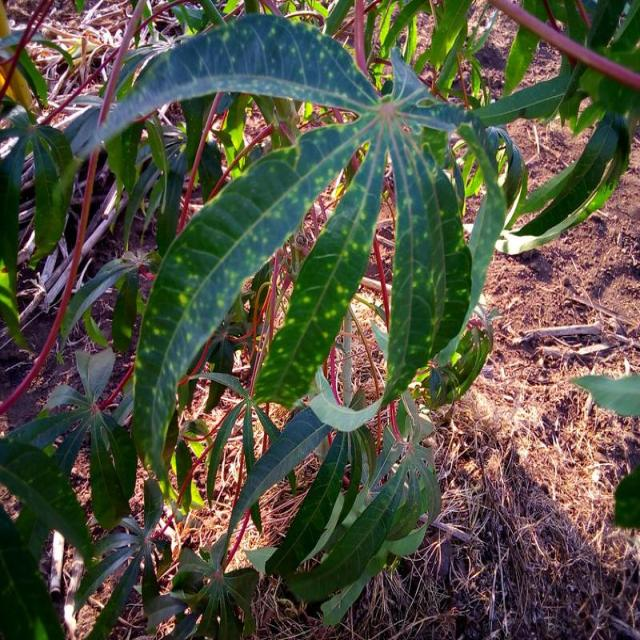cassava leaf: (64, 13, 506, 493), (130, 115, 372, 488), (62, 12, 380, 161)
